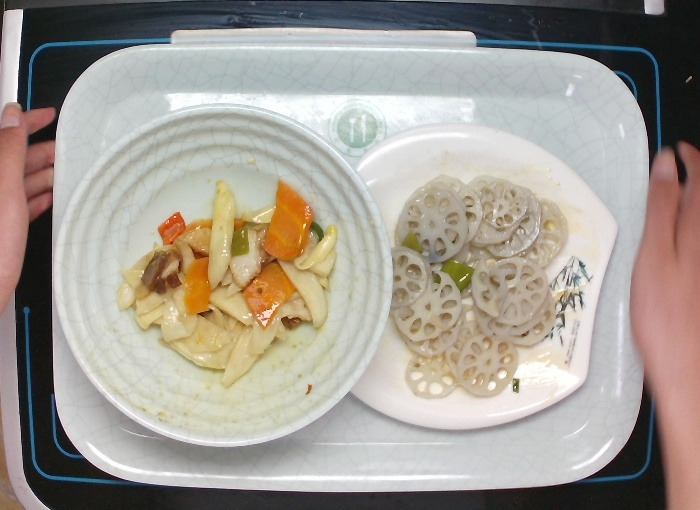JYsf-Da_Tang_Wan: (49, 99, 398, 451)
JYsf-Mian_Pan: (339, 118, 622, 435)
